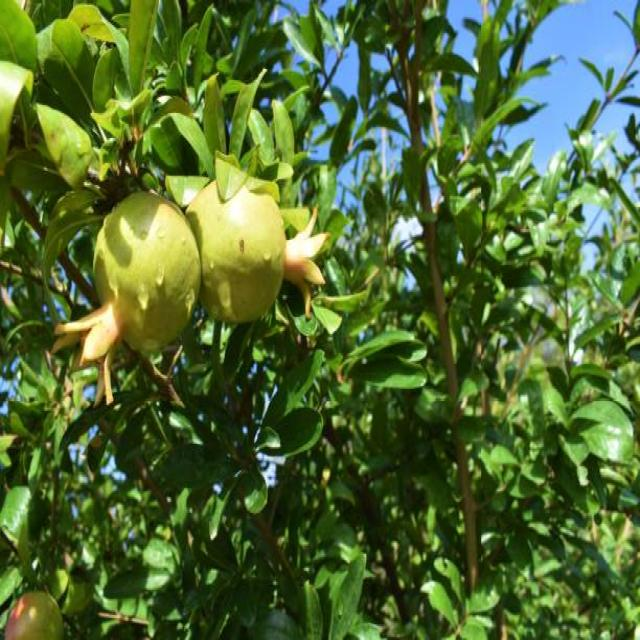Unripe: (53, 189, 200, 406), (190, 168, 328, 320)
